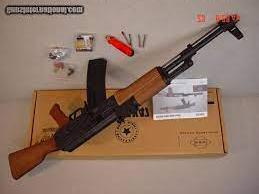larga: (7, 15, 244, 180)
